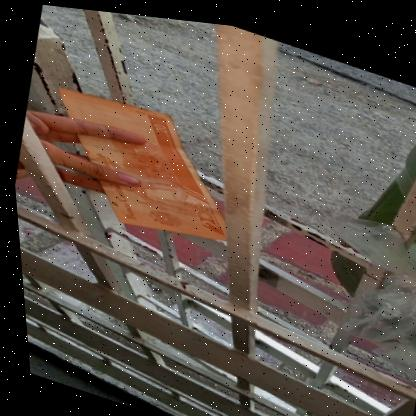twenty-back-vef: (28, 73, 249, 257)
